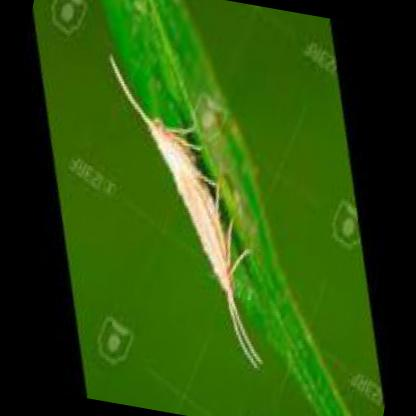plutella: (105, 47, 265, 375)
